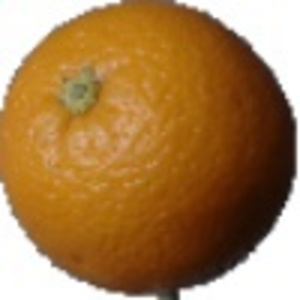laranja: (2, 4, 296, 298)
